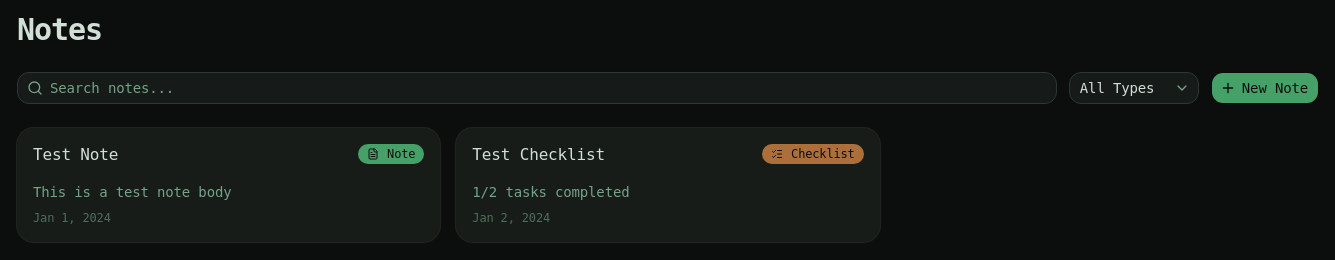
Test case: notes page — navigation and views › navigates to detail view when clicking a card
Click on the "Test Note" heading text — should be inside a card
Click the text "Test Note" at coordinates (76, 155), box [33,144,118,166]
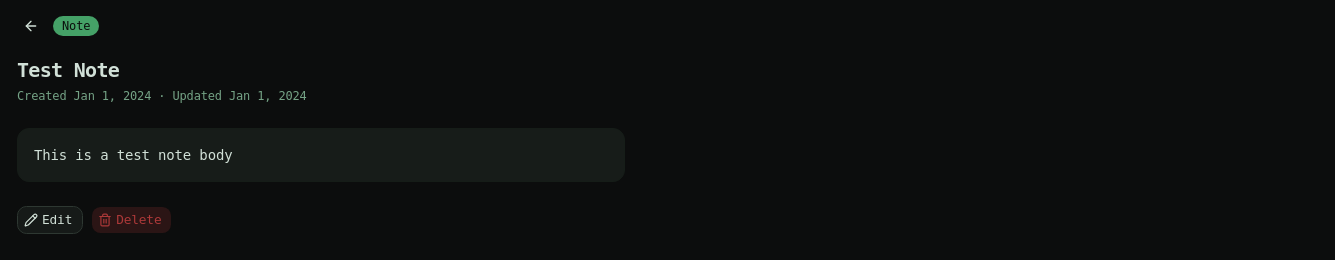
Expected: the icon "Note" is shown, [53,16,99,36]
Result: the button "Edit" is shown at [17,206,83,234]
Result: the button "Delete" is shown at [91,206,172,234]
